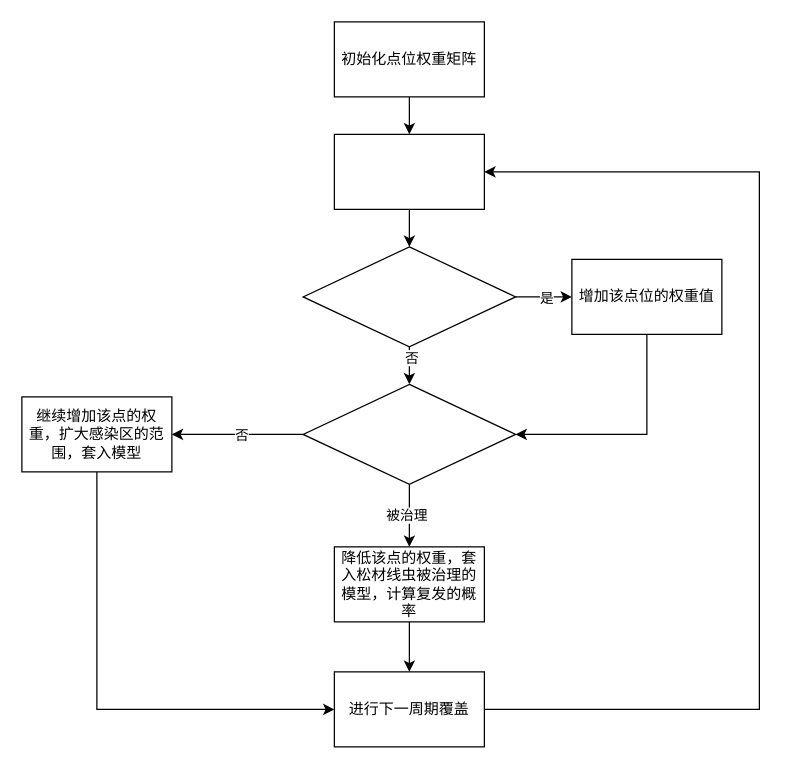
Image size: 791x769. Some labels were removed from this diagram. The centre of each missing label's shape, as x and y in pixels:
"旧的感染点是否被治理" belongs at (409,433).
"是否发现新的感染点" belongs at (409,296).
"进行全覆盖" belongs at (408,171).
